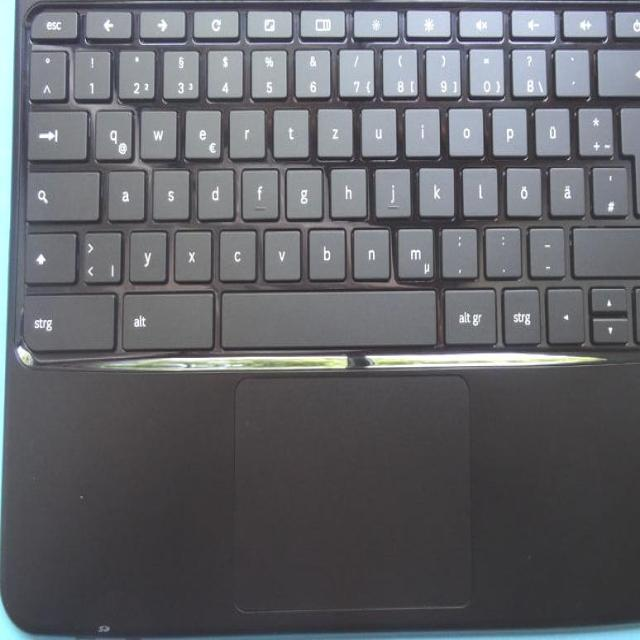0: (465, 42, 504, 96)
1: (70, 44, 109, 97)
2: (115, 44, 154, 97)
3: (160, 44, 199, 97)
4: (204, 43, 242, 96)
5: (248, 43, 287, 97)
6: (292, 43, 331, 96)
7: (335, 43, 373, 95)
8: (379, 43, 416, 96)
9: (422, 43, 460, 96)
a: (103, 163, 143, 219)
accent: (551, 43, 588, 93)
ae: (546, 161, 584, 213)
alt-left: (120, 285, 212, 349)
altgr-right: (439, 282, 495, 342)
b: (305, 222, 346, 276)
c: (215, 223, 255, 279)
caret: (26, 44, 65, 98)
comma: (438, 222, 476, 274)
d: (194, 164, 233, 217)
del: (593, 42, 640, 93)
e: (181, 104, 220, 157)
enter: (617, 100, 640, 214)
f: (238, 162, 277, 218)
g: (283, 163, 322, 217)
h: (327, 161, 365, 215)
hash: (588, 160, 626, 213)
i: (401, 101, 438, 153)
j: (372, 163, 410, 216)
k: (415, 161, 453, 214)
keyboard: (6, 0, 640, 366)
l: (459, 161, 497, 213)
less: (78, 225, 120, 281)
m: (393, 222, 432, 276)
minus: (524, 221, 563, 274)
n: (348, 222, 389, 276)
o: (444, 103, 482, 153)
oe: (502, 162, 540, 214)
p: (489, 103, 526, 155)
plus: (574, 101, 611, 153)
point: (482, 221, 520, 274)
q: (91, 104, 131, 158)
r: (226, 104, 264, 156)
s: (150, 164, 188, 218)
shift-left: (21, 227, 74, 281)
shift-lock: (22, 165, 98, 219)
shift-right: (567, 220, 640, 274)
space: (218, 283, 434, 347)
ss: (508, 43, 546, 95)
strg-left: (16, 287, 115, 354)
strg-right: (499, 282, 538, 342)
t: (271, 103, 309, 156)
tab: (23, 104, 86, 158)
u: (357, 103, 395, 155)
ue: (532, 103, 569, 155)
v: (260, 224, 299, 278)
w: (137, 104, 176, 157)
x: (171, 225, 212, 279)
y: (126, 224, 166, 280)
z: (314, 103, 352, 155)
